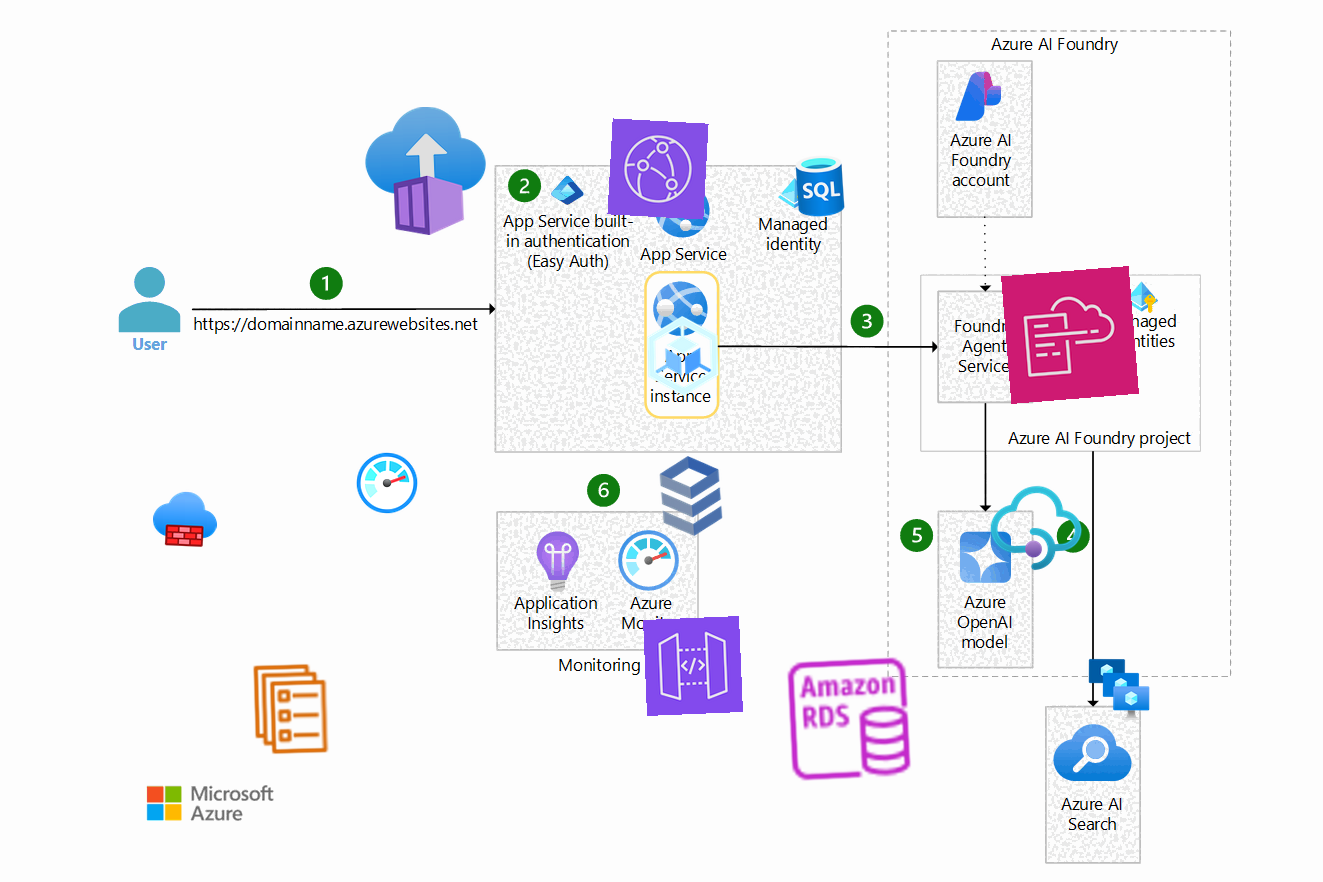aws_amazon_api_gateway: (643, 616, 743, 716)
aws_amazon_cloudfront: (607, 118, 709, 220)
aws_aurora_amazon_rds_instance: (781, 651, 917, 787)
aws_cloudformation: (1001, 266, 1139, 404)
aws_elastic_container_service_service: (241, 659, 341, 759)
azure_api_management_services: (985, 477, 1087, 579)
azure_container_instances: (359, 104, 493, 238)
azure_firewalls: (151, 485, 219, 553)
azure_monitor: (353, 449, 421, 517)
azure_sql_database: (785, 151, 855, 221)
azure_vm_scale_sets: (1085, 655, 1151, 721)
gcp_cloud_sql: (639, 444, 743, 548)
gcp_google_kubernetes_engine: (633, 306, 733, 406)
